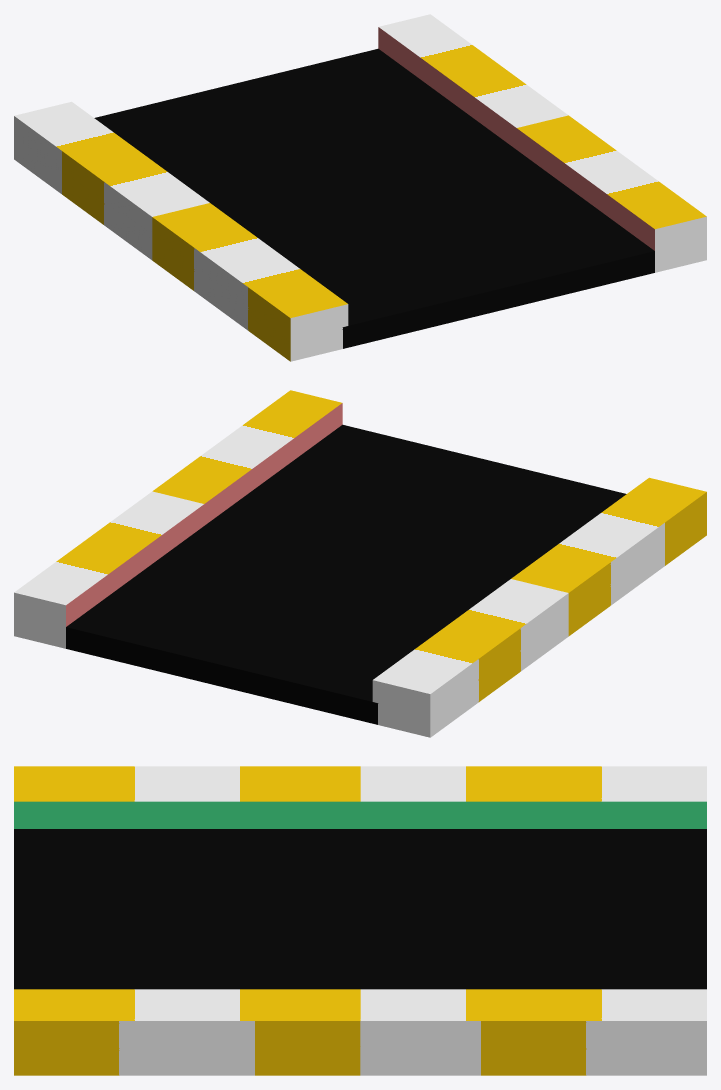
Rendered from Road.gltf.
The picture shows the model from 3 angles, top to bottom: view 1: azimuth 30°, elevation 25°; view 2: azimuth 150°, elevation 25°; view 3: azimuth 270°, elevation 25°; orthographic projection. The views are drawn at different scales.
Visible parts, largest first — view 1: mesh; view 2: mesh; view 3: mesh.
Part boxes in pixels (x1,y1,x2,y2): mesh: (14, 14, 706, 361); mesh: (14, 390, 706, 737); mesh: (14, 766, 706, 1075).
Size of the model in its own units: 2.5 by 0.25 by 2.88.
1 material, 1 textured.
